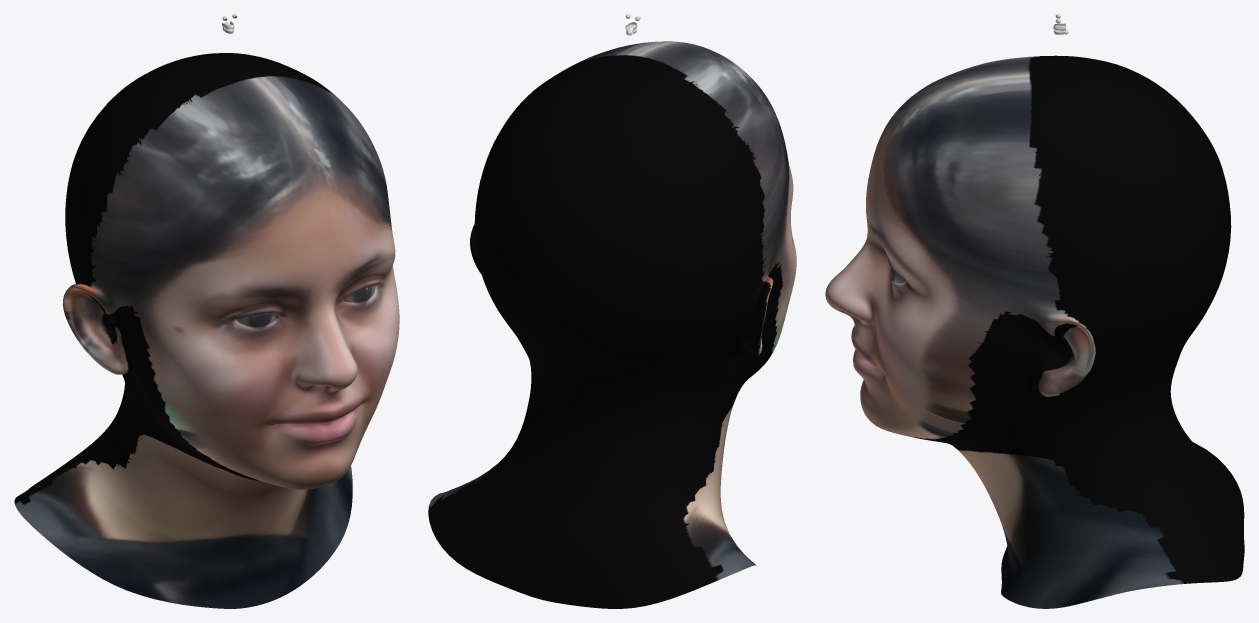
File: practice.glb
3 renders of one model, left to right at view 1: azimuth 30°, elevation 25°; view 2: azimuth 150°, elevation 25°; view 3: azimuth 270°, elevation 25°, orthographic. The views are drawn at different scales.
Parts seen in each view (by area): view 1: FBHead.002; view 2: FBHead.002; view 3: FBHead.002.
Part boxes in pixels (box(x1,y1,x2,y2)): FBHead.002: box(14, 53, 399, 608); FBHead.002: box(428, 41, 796, 608); FBHead.002: box(825, 55, 1244, 608).
Size of the model in its own units: 1.83 by 3.16 by 2.12.
Materials: 6 (3 with a texture image).
